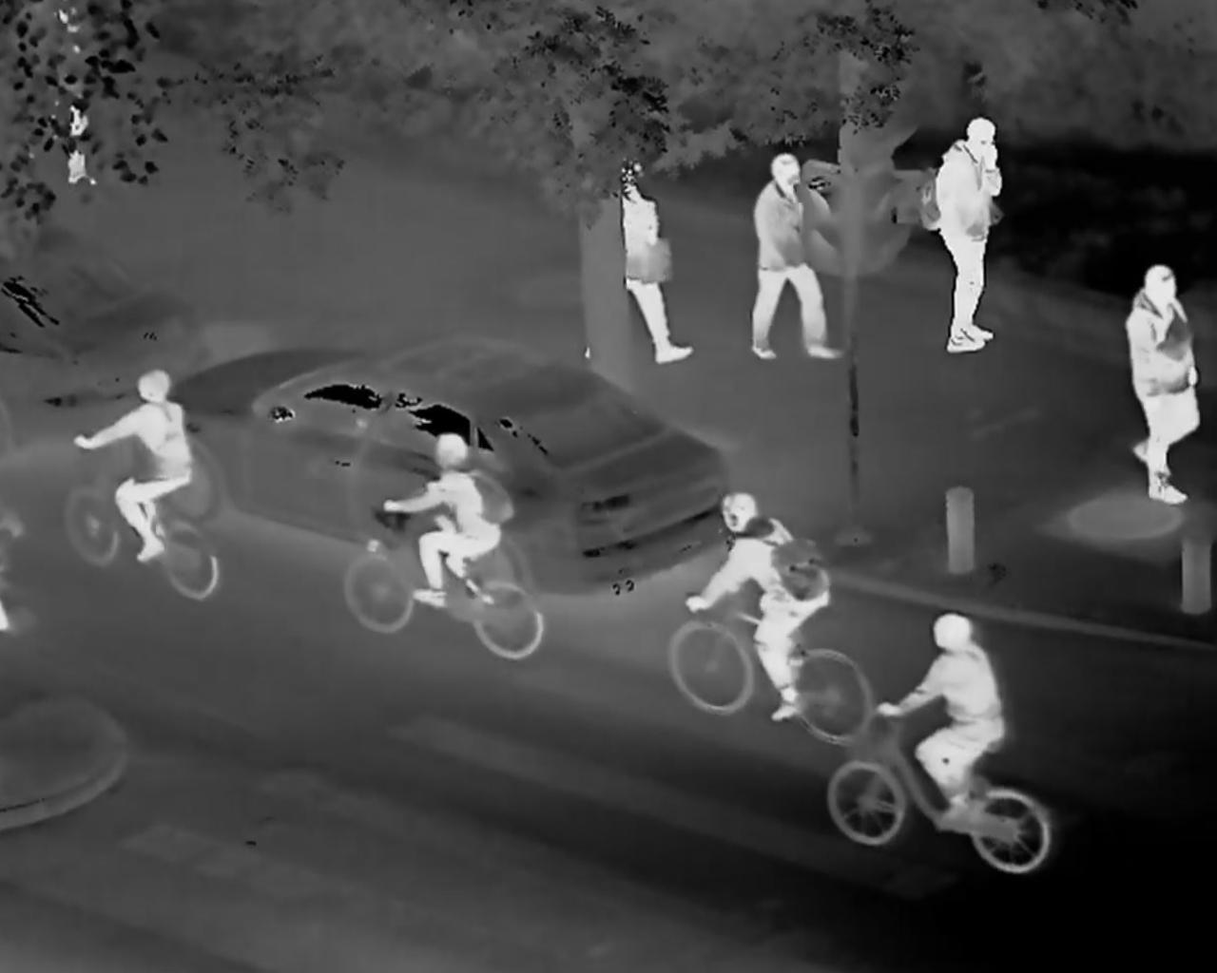person: (687, 491, 829, 730), (61, 371, 194, 569), (879, 608, 1003, 815), (578, 156, 688, 370), (378, 433, 506, 610), (1121, 266, 1206, 506), (746, 150, 839, 359), (929, 116, 995, 350), (43, 9, 99, 188)
